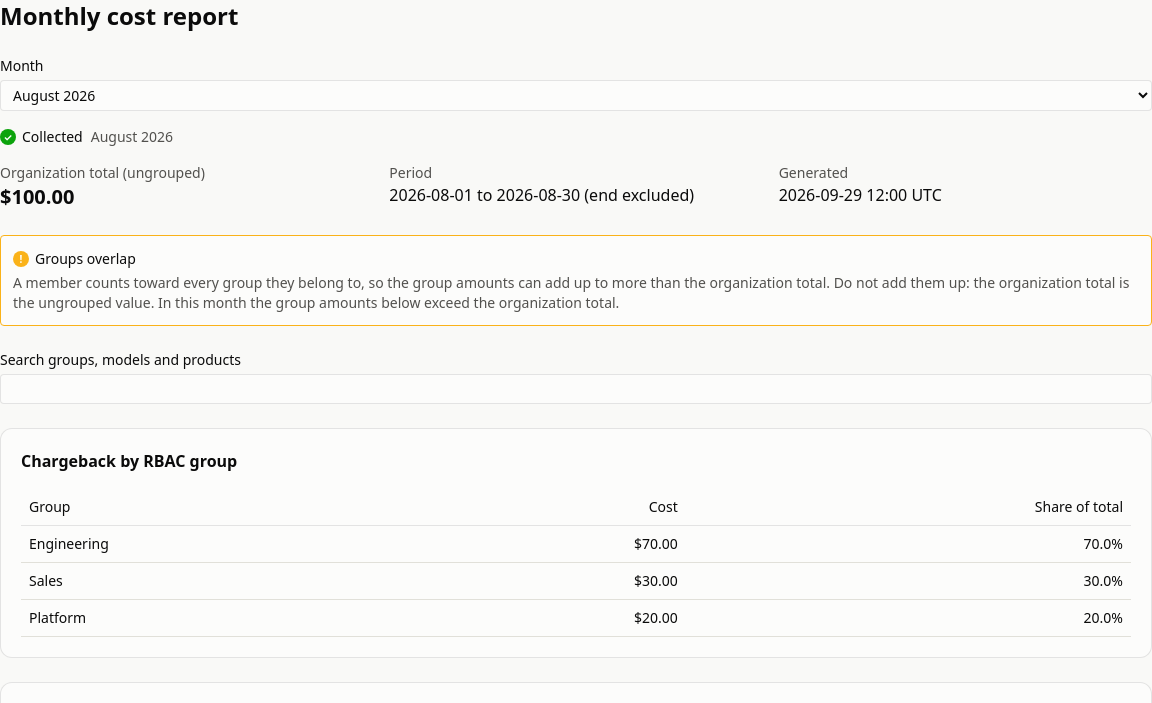
MonthlyReport › filters the tables and says so when nothing matches
Expected: the table named "Chargeback by RBAC group" is shown, left=21, top=489, right=1131, bottom=637
Type "platf" into the search field labelled "Search groups, models and products". click: (576, 389)
box: left=0, top=374, right=1151, bottom=404
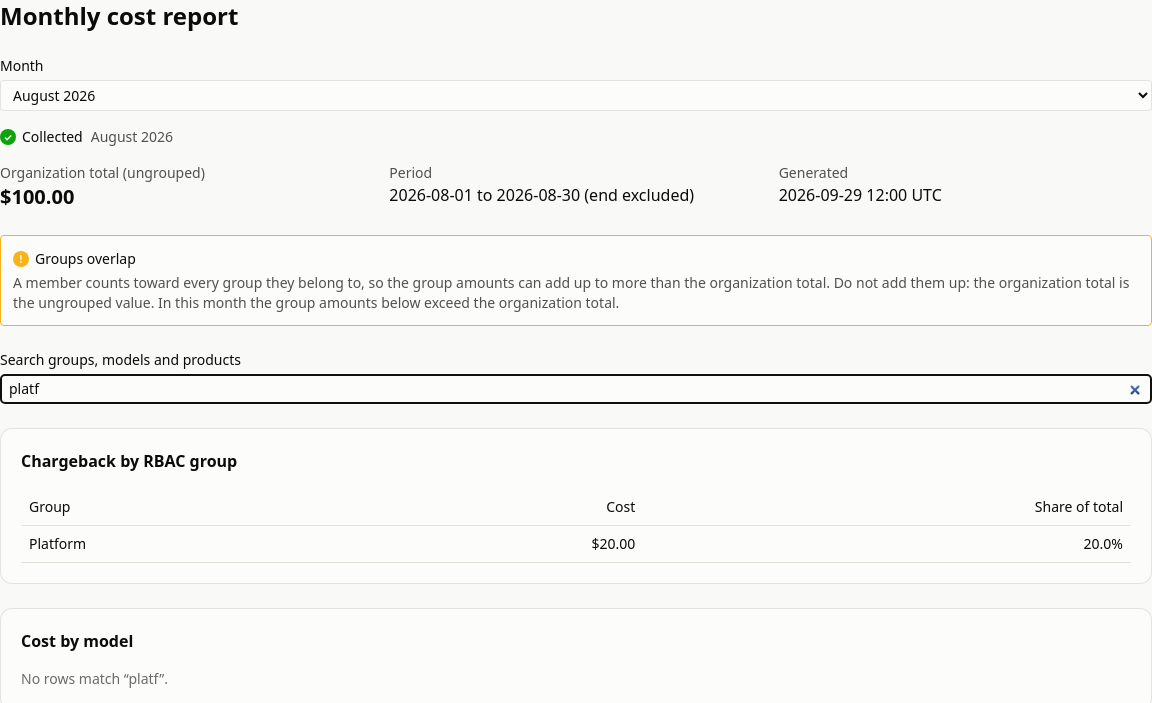
Result: the number of rows is 2 at left=21, top=489, right=1131, bottom=526; left=21, top=526, right=1131, bottom=563
Replace the text in the search field labelled "Search groups, models and products" with "zzz". click: (576, 389)
box: left=0, top=374, right=1151, bottom=404
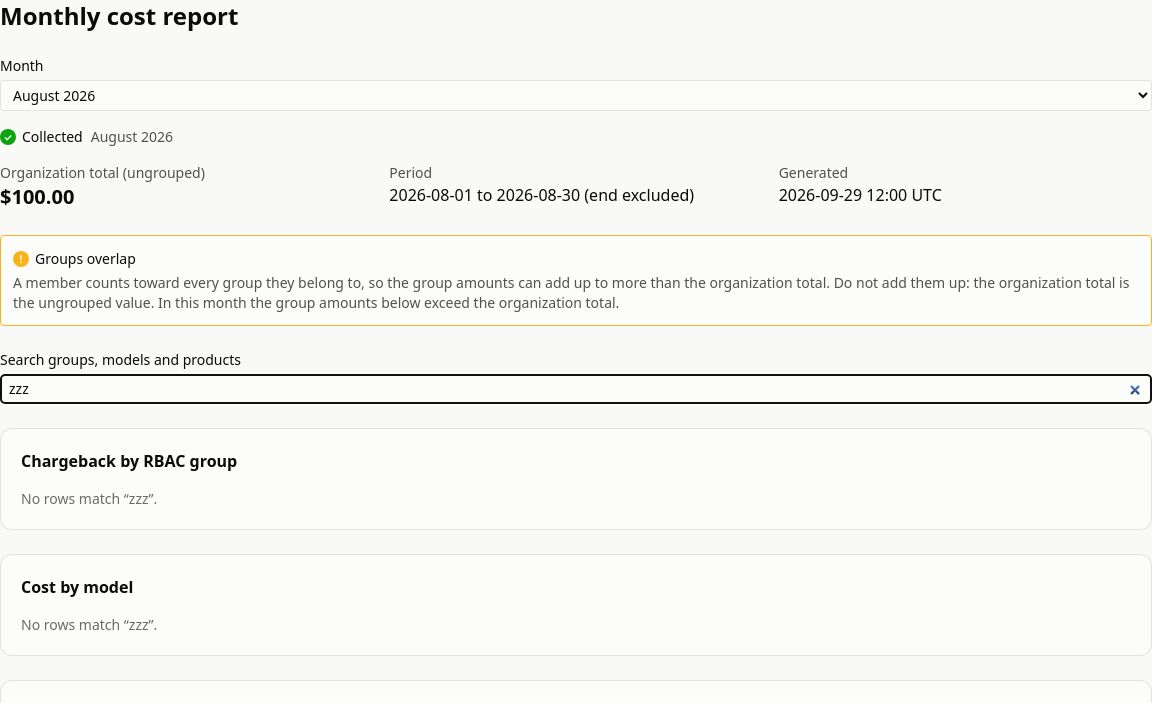
Result: the text "No rows match “zzz”." is shown 3 times
